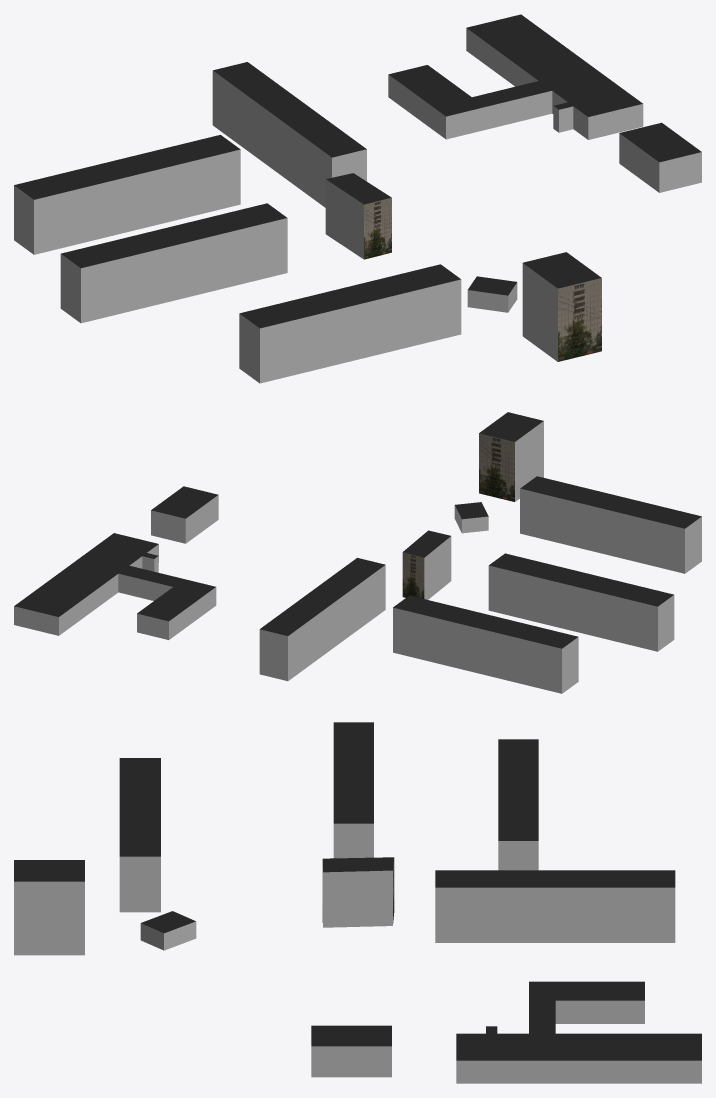
3 views of the same model, one above another, from view 1: azimuth 30°, elevation 25°; view 2: azimuth 150°, elevation 25°; view 3: azimuth 270°, elevation 25° (orthographic). The views are drawn at different scales.
Visible parts, largest first — view 1: Object001_house9-1_0, Object001_roof_0, Object001_house6-1_0, Object001_house8-1_0, Object001_house8-2_0, Object001_house9-2_0, Object001_house7_0, Object001_house6-2_0, Object001_house10-1_0; view 2: Object001_house9-1_0, Object001_roof_0, Object001_house6-1_0, Object001_house9-2_0, Object001_house8-2_0, Object001_house8-1_0, Object001_house6-2_0; view 3: Object001_roof_0, Object001_house9-1_0, Object001_house8-1_0, Object001_house7_0, Object001_house9-2_0, Object001_house6-2_0, Object001_house6-1_0, Object001_house10-1_0.
Boxes of the visible parts, x1,y1,x2,y2 form: Object001_house9-1_0: (34, 70, 461, 383); Object001_roof_0: (14, 14, 701, 328); Object001_house6-1_0: (388, 28, 701, 192); Object001_house8-1_0: (325, 179, 557, 361); Object001_house8-2_0: (364, 197, 601, 361); Object001_house9-2_0: (14, 149, 366, 383); Object001_house7_0: (446, 91, 552, 139); Object001_house6-2_0: (619, 133, 659, 192); Object001_house10-1_0: (467, 290, 508, 312); Object001_house9-1_0: (288, 488, 684, 693); Object001_roof_0: (14, 412, 701, 648); Object001_house6-1_0: (14, 510, 216, 639); Object001_house9-2_0: (259, 516, 701, 693); Object001_house8-2_0: (402, 433, 514, 598); Object001_house8-1_0: (424, 421, 543, 599); Object001_house6-2_0: (185, 495, 218, 543); Object001_roof_0: (14, 722, 701, 1060); Object001_house9-1_0: (435, 887, 675, 942); Object001_house8-1_0: (14, 870, 392, 955); Object001_house7_0: (456, 1060, 701, 1083); Object001_house9-2_0: (119, 823, 538, 912); Object001_house6-2_0: (311, 1046, 391, 1077); Object001_house6-1_0: (555, 1000, 644, 1023); Object001_house10-1_0: (164, 921, 196, 950).
Bounding box in the file's own units: 426 × 48 × 405.
